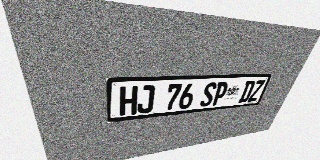6: (178, 83, 197, 109)
7: (164, 84, 182, 111)
D: (238, 80, 256, 103)
H: (120, 86, 138, 116)
J: (137, 85, 155, 114)
P: (211, 82, 230, 106)
S: (199, 82, 218, 107)
Z: (247, 80, 266, 102)
